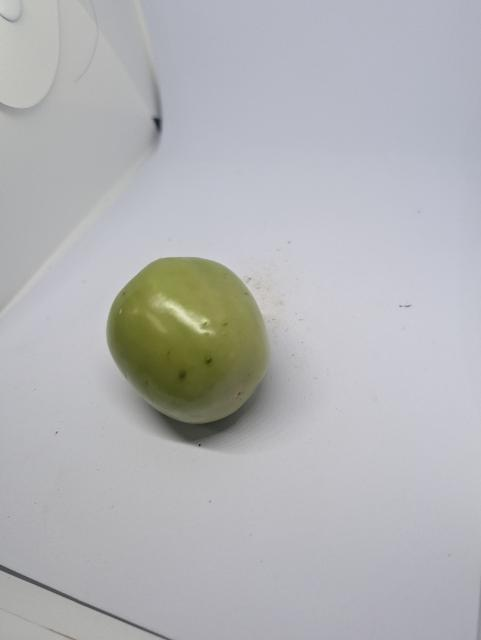green: (95, 242, 285, 429)
